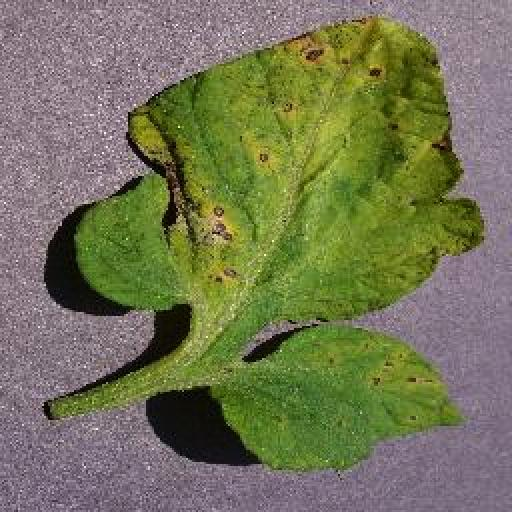disease_tomato: (68, 14, 486, 322), (214, 326, 462, 476)
